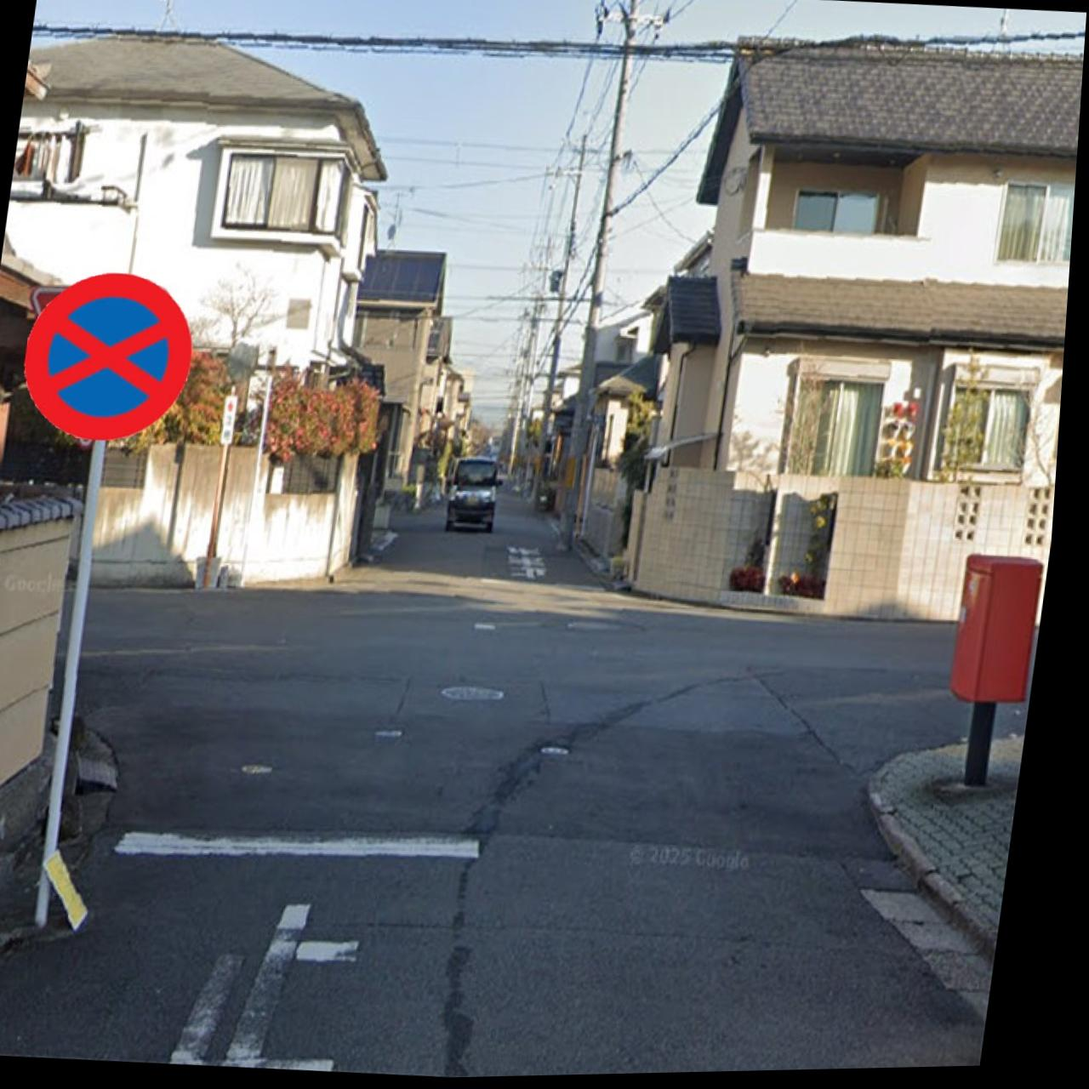stop_sign: (5, 262, 202, 454)
